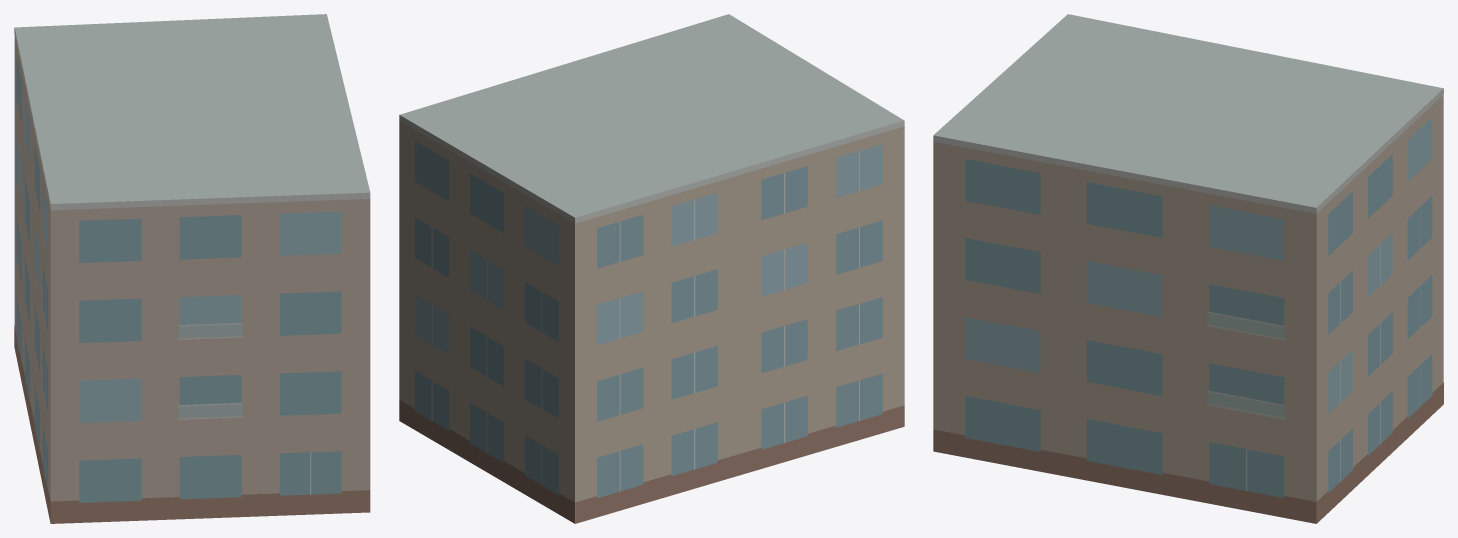
The model's file is survey-upis-32562553.glb.
3 renders of one model, left to right at view 1: azimuth 30°, elevation 25°; view 2: azimuth 150°, elevation 25°; view 3: azimuth 270°, elevation 25°, orthographic. The views are drawn at different scales.
Parts seen in each view (by area): view 1: survey-upis-32562553.tmp; view 2: survey-upis-32562553.tmp; view 3: survey-upis-32562553.tmp.
Boxes of the visible parts, x1,y1,x2,y2 form: survey-upis-32562553.tmp: (14, 14, 370, 523); survey-upis-32562553.tmp: (399, 14, 904, 523); survey-upis-32562553.tmp: (933, 14, 1443, 523).
Bounding box in the file's own units: 16.68 × 12.67 × 18.56.
